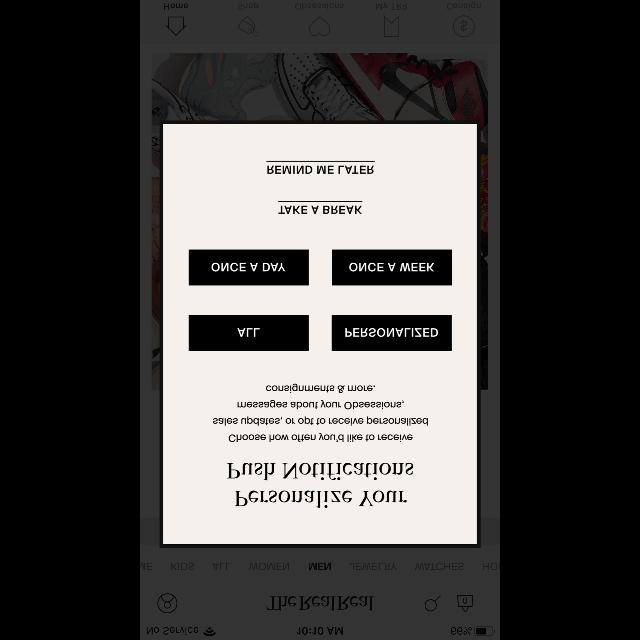panel: (160, 120, 480, 548)
text: (212, 384, 428, 442), (226, 464, 414, 508), (268, 166, 374, 174), (278, 206, 362, 214)
textbutton: (189, 250, 309, 286), (332, 250, 452, 286), (332, 315, 452, 351), (189, 315, 309, 351)
